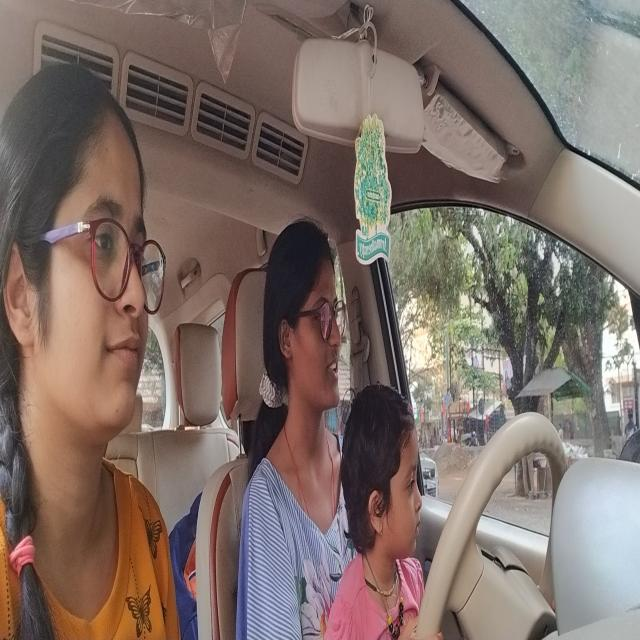child: (339, 372, 424, 570)
person: (1, 51, 169, 495), (258, 202, 345, 436)
